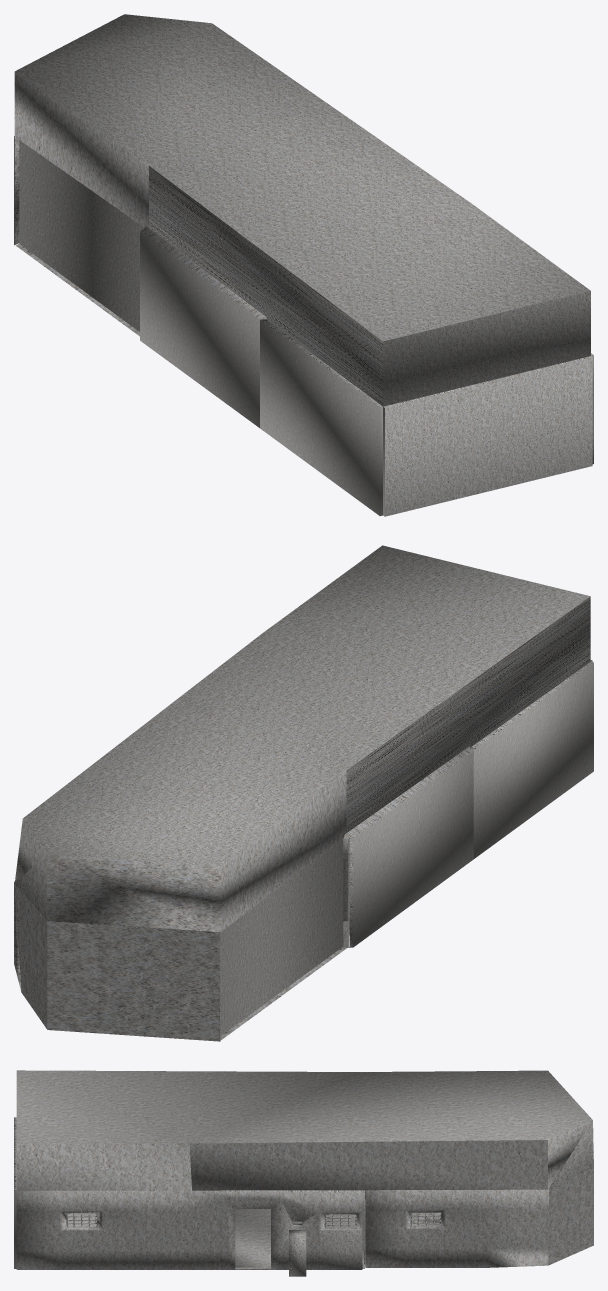
The model's file is NearBridge.fbx.
The picture shows the model from 3 angles, top to bottom: view 1: azimuth 30°, elevation 25°; view 2: azimuth 150°, elevation 25°; view 3: azimuth 270°, elevation 25°; orthographic projection. The views are drawn at different scales.
Parts seen in each view (by area): view 1: Plane.005; view 2: Plane.005; view 3: Plane.005.
Part boxes in pixels (left/top/right/bottom): Plane.005: left=14, top=14, right=593, bottom=516; Plane.005: left=14, top=545, right=593, bottom=1041; Plane.005: left=14, top=1070, right=593, bottom=1276.
Size of the model in its own units: 2260 by 1612 by 6708.
